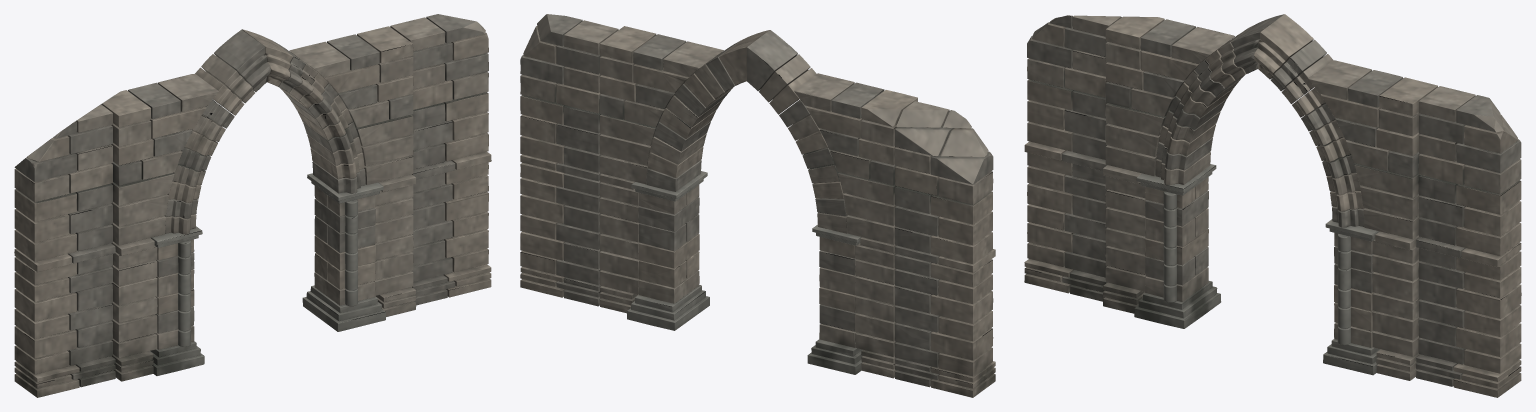
Rendered from portal-abutments.glb.
The picture shows the model from 3 angles, left to right: view 1: azimuth 30°, elevation 25°; view 2: azimuth 150°, elevation 25°; view 3: azimuth 330°, elevation 25°; orthographic projection. The views are drawn at different scales.
Visible parts, largest first — view 1: WornPier_Review; view 2: WornPier_Review; view 3: WornPier_Review.
Boxes of the visible parts, bbox=[...] form: WornPier_Review: bbox=[14, 14, 491, 397]; WornPier_Review: bbox=[520, 14, 995, 397]; WornPier_Review: bbox=[1024, 14, 1521, 397].
Bounding box in the file's own units: 9.58 × 5.99 × 1.29.
Materials: 1 (1 with a texture image).
